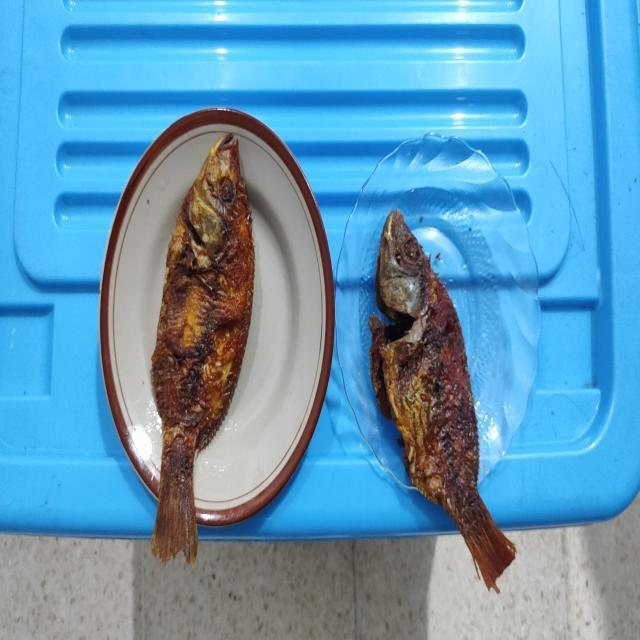ikan_mujair: (368, 210, 516, 592), (151, 133, 255, 562)
